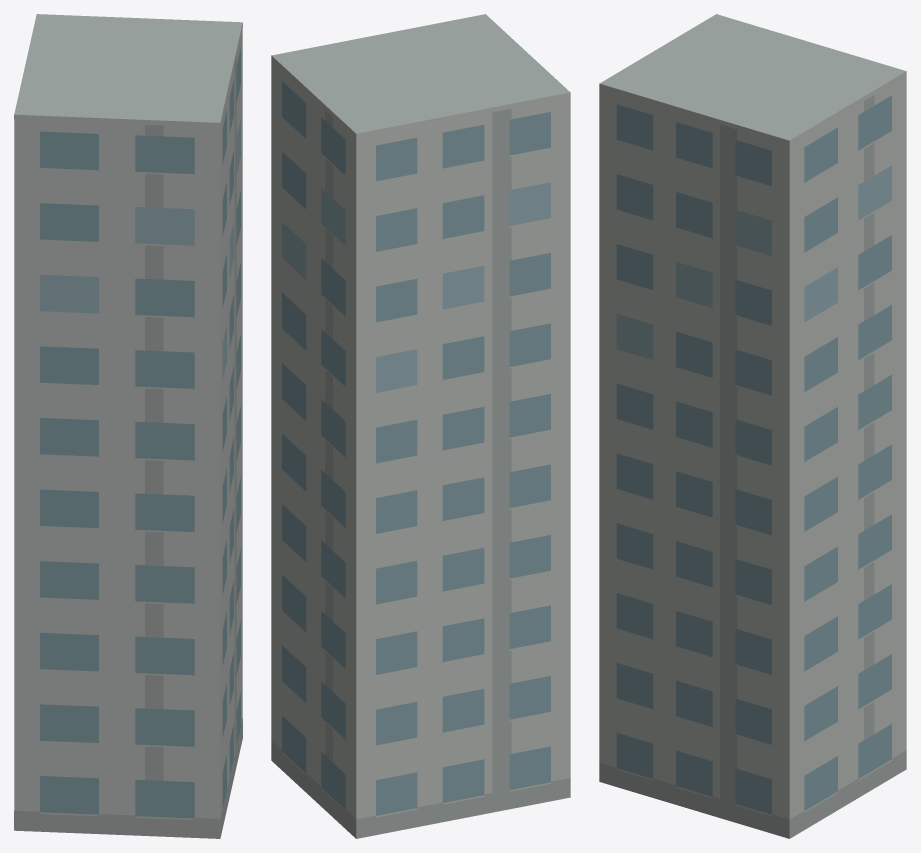
The model's file is residential-aa1cab7b-3b4a-4e70-8775-7e7dc50ff408.glb.
3 views of the same model, side by side, from view 1: azimuth 30°, elevation 25°; view 2: azimuth 150°, elevation 25°; view 3: azimuth 270°, elevation 25° (orthographic). The views are drawn at different scales.
Parts seen in each view (by area): view 1: residential-aa1cab7b-3b4a-4e70-8775-7e7dc50ff408.tmp; view 2: residential-aa1cab7b-3b4a-4e70-8775-7e7dc50ff408.tmp; view 3: residential-aa1cab7b-3b4a-4e70-8775-7e7dc50ff408.tmp.
Part boxes in pixels (x1,y1,x2,y2): residential-aa1cab7b-3b4a-4e70-8775-7e7dc50ff408.tmp: (14,14,242,838); residential-aa1cab7b-3b4a-4e70-8775-7e7dc50ff408.tmp: (271,14,570,838); residential-aa1cab7b-3b4a-4e70-8775-7e7dc50ff408.tmp: (599,14,906,838).
Size of the model in its own units: 14.01 by 36 by 14.36.
